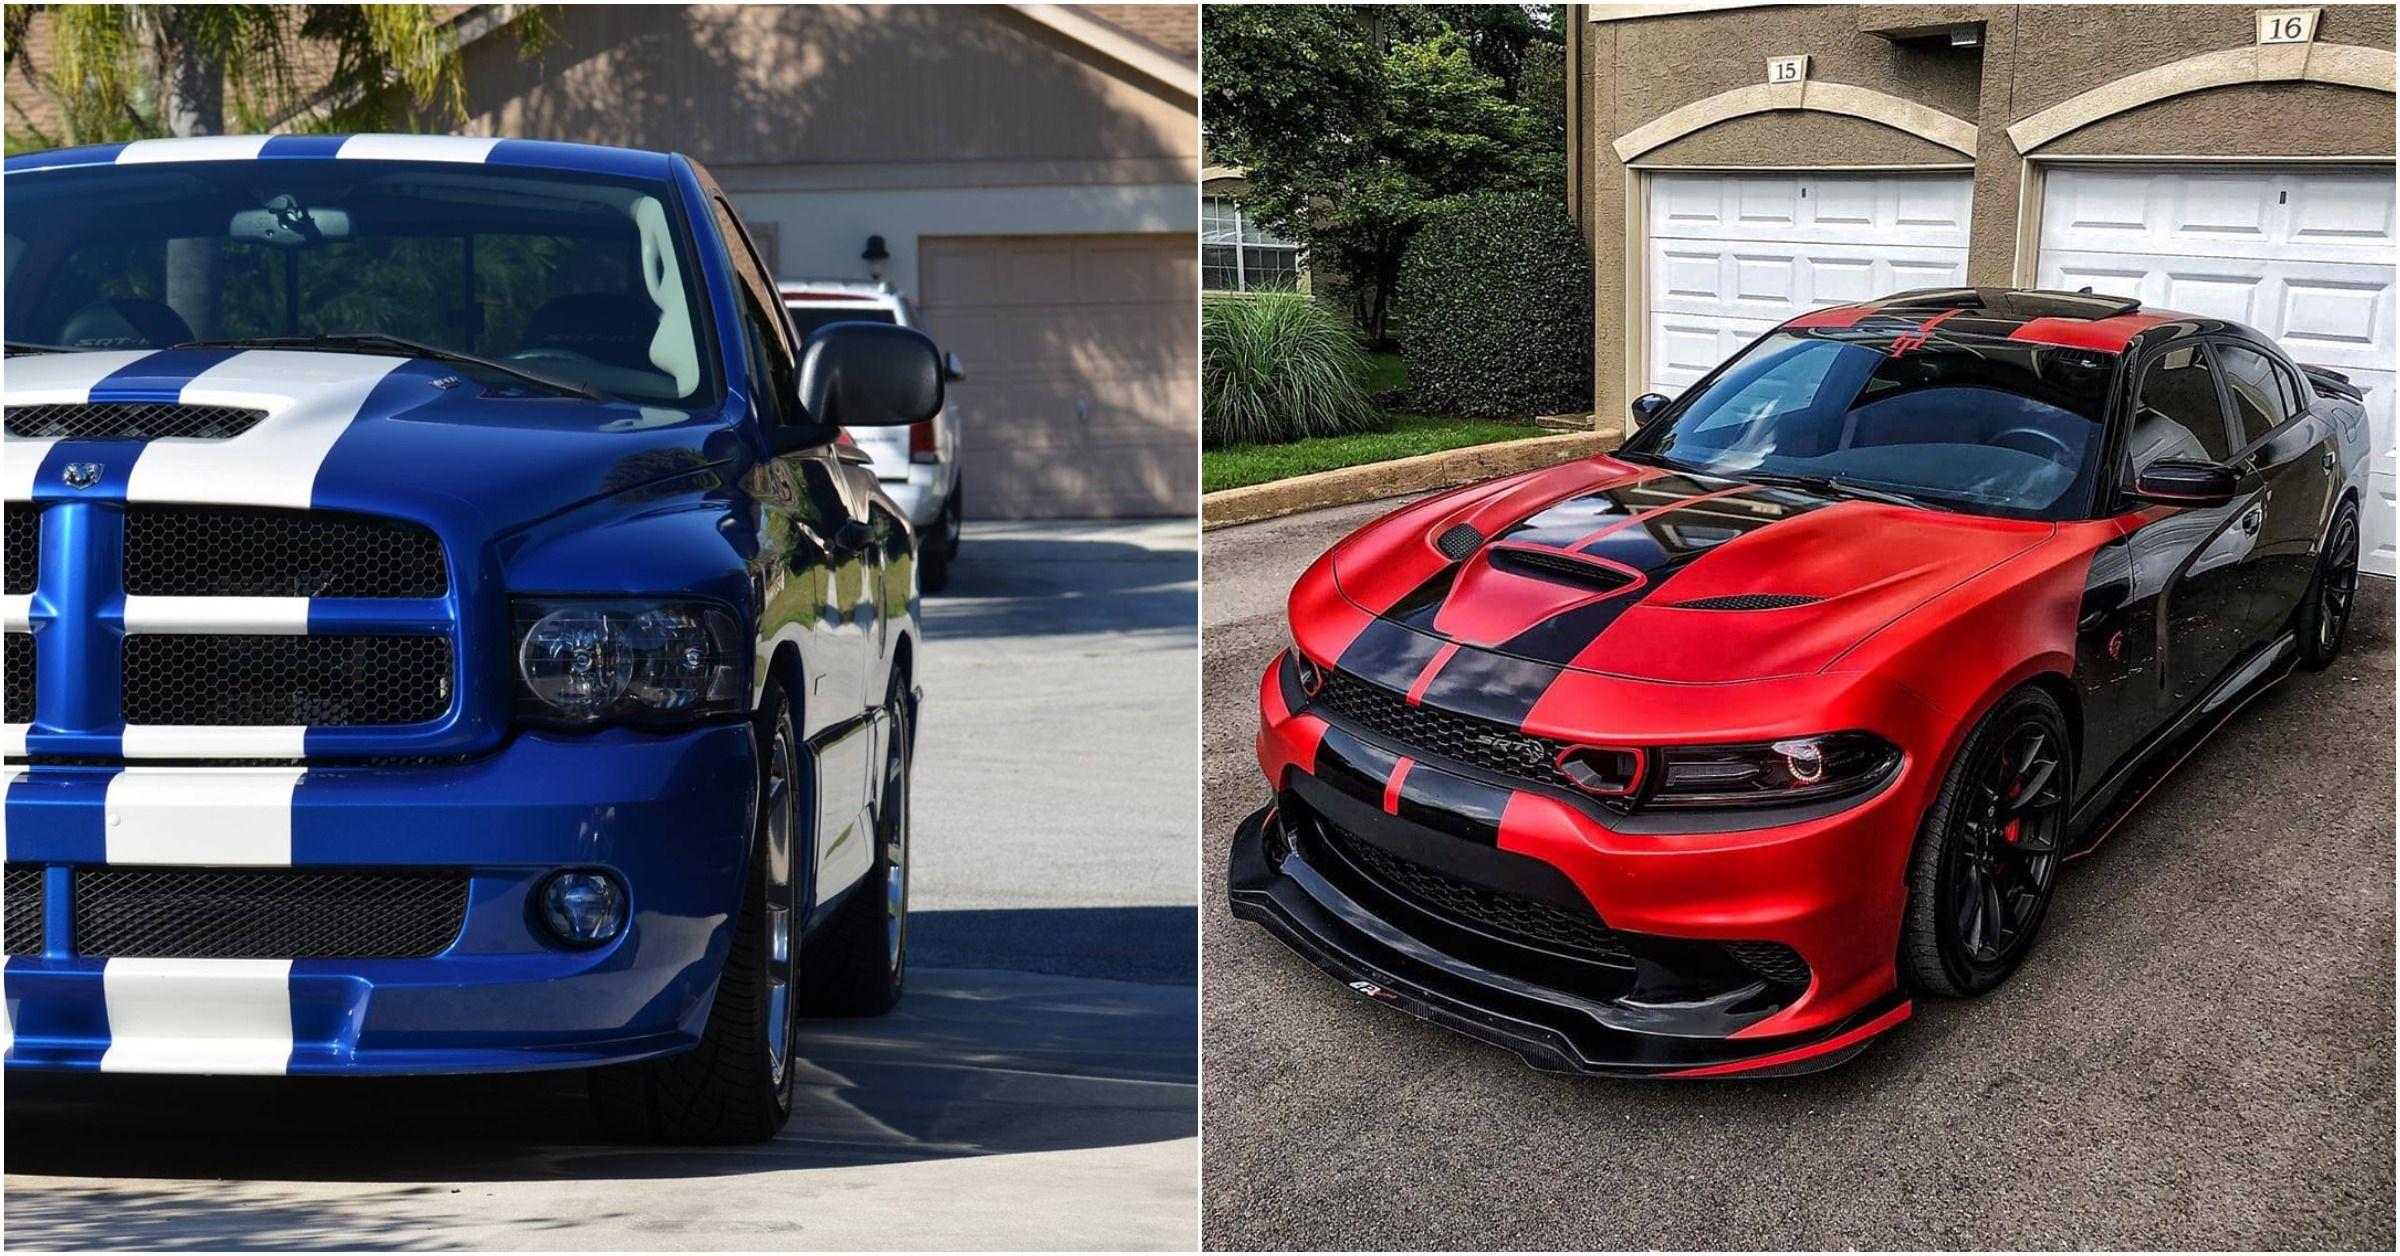headlight: (487, 580, 771, 732), (1254, 588, 1344, 700), (1756, 719, 1879, 796)
wheel: (1921, 691, 2094, 997), (695, 783, 805, 1162), (821, 649, 922, 1007), (2305, 486, 2378, 657)
